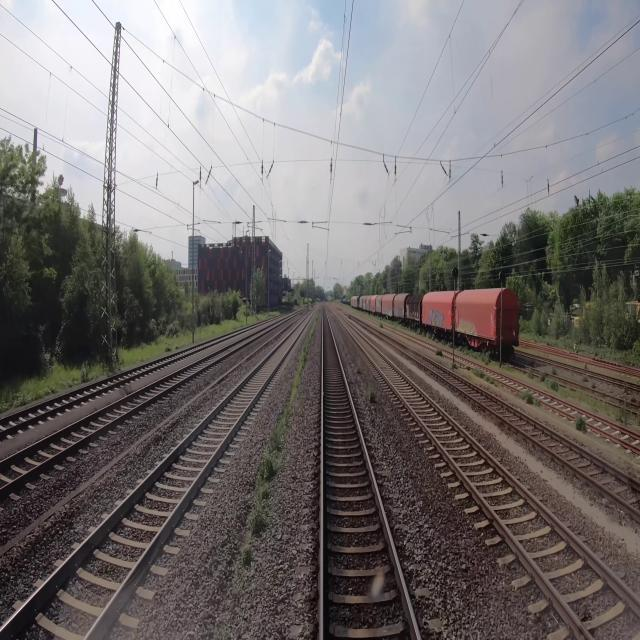Plant: (266, 311, 318, 455), (250, 458, 277, 539), (239, 545, 254, 571), (573, 413, 586, 434), (367, 386, 376, 406)
